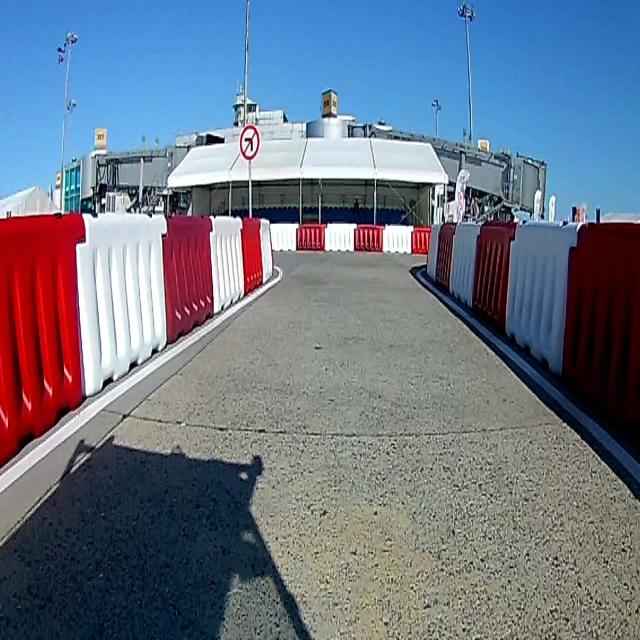soladonulmez: (240, 124, 259, 160)
